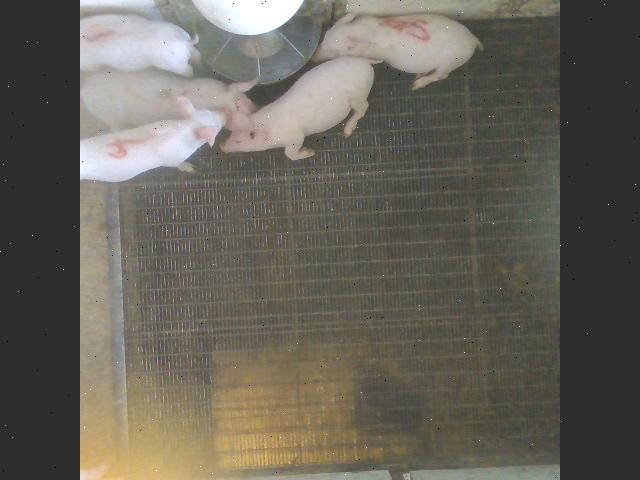pig-1: (81, 14, 201, 76)
pig-3: (82, 66, 256, 130)
pig-4: (81, 96, 226, 181)
pig-5: (313, 12, 482, 89)
